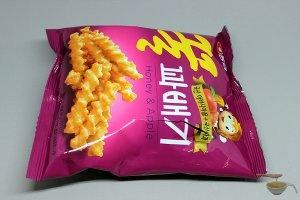snack: (23, 25, 267, 182)
